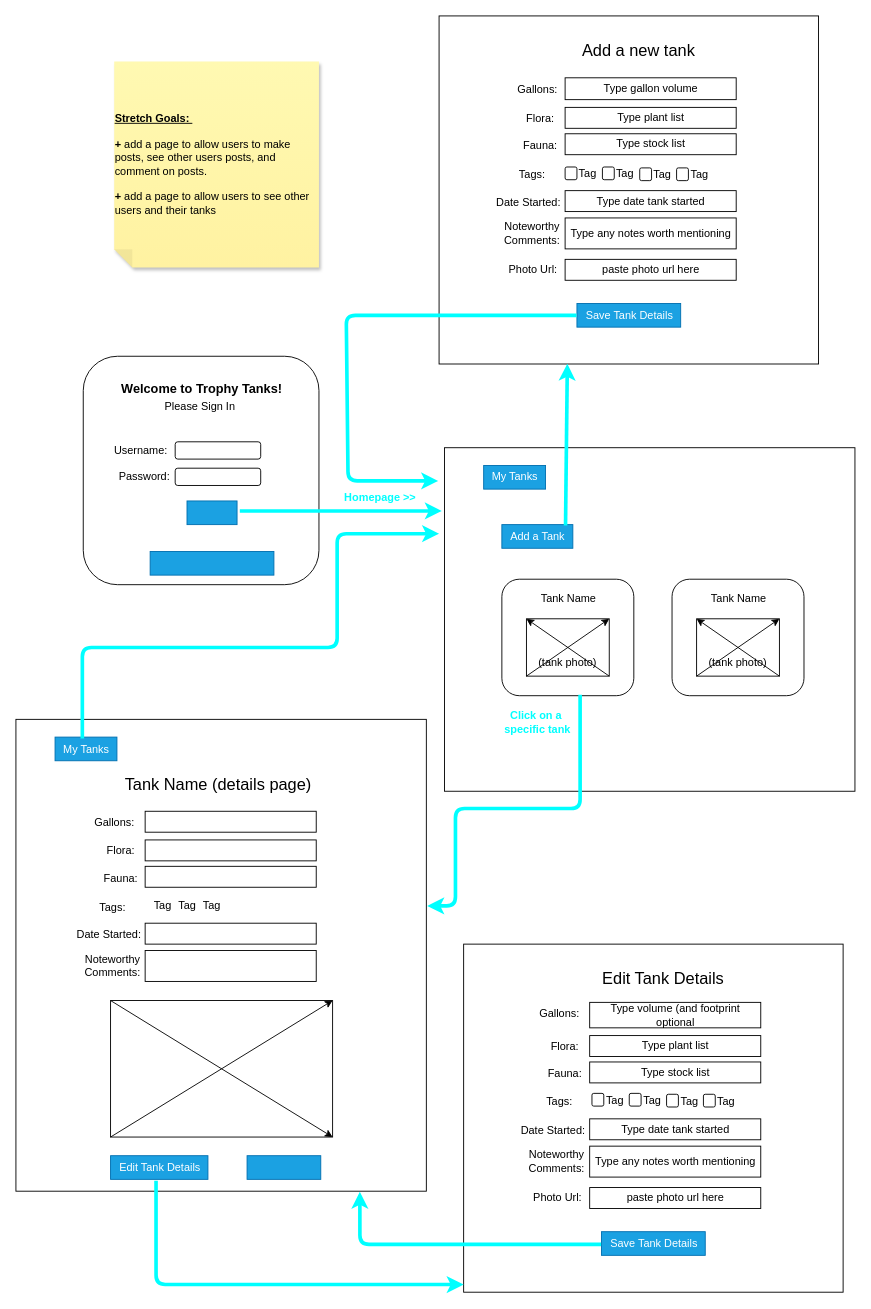
The diagram is 871 pixels wide and 1309 high, and some of its shapes have lost their labels. The shapes that lost their labels are listed below. From the top down, each one's centre as x and y in pixels, then its label:
(x=211, y=512): Sign in
(x=211, y=563): Register New Account
(x=221, y=1068): (your aquarium photo)
(x=283, y=1167): Delete Tank
